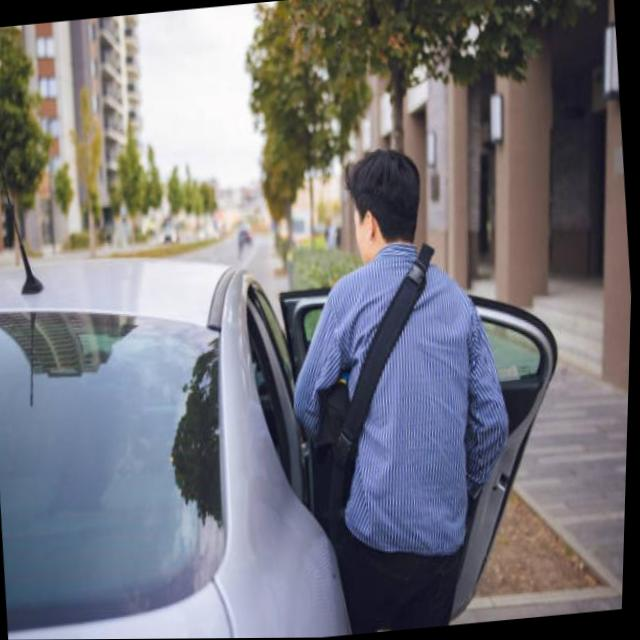no helmet: (332, 144, 435, 261)
